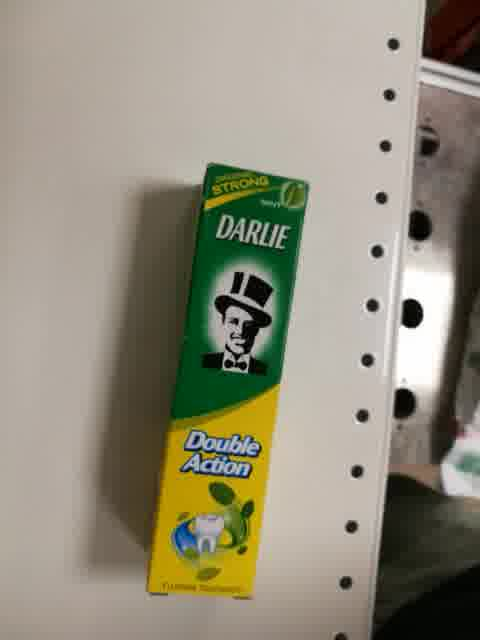toothpaste: (145, 160, 312, 604)
